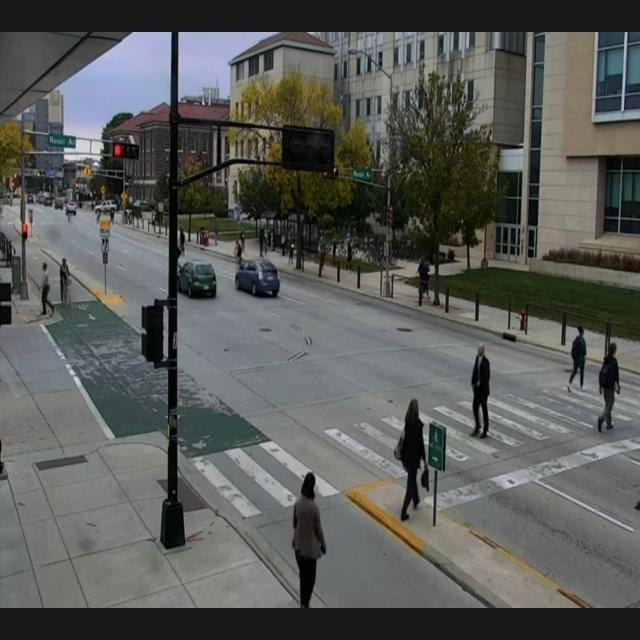Walking: (57, 234, 81, 334)
crossing: (234, 430, 347, 606), (365, 360, 456, 545), (466, 296, 519, 502), (538, 263, 587, 428), (589, 321, 634, 459), (29, 237, 58, 329)
